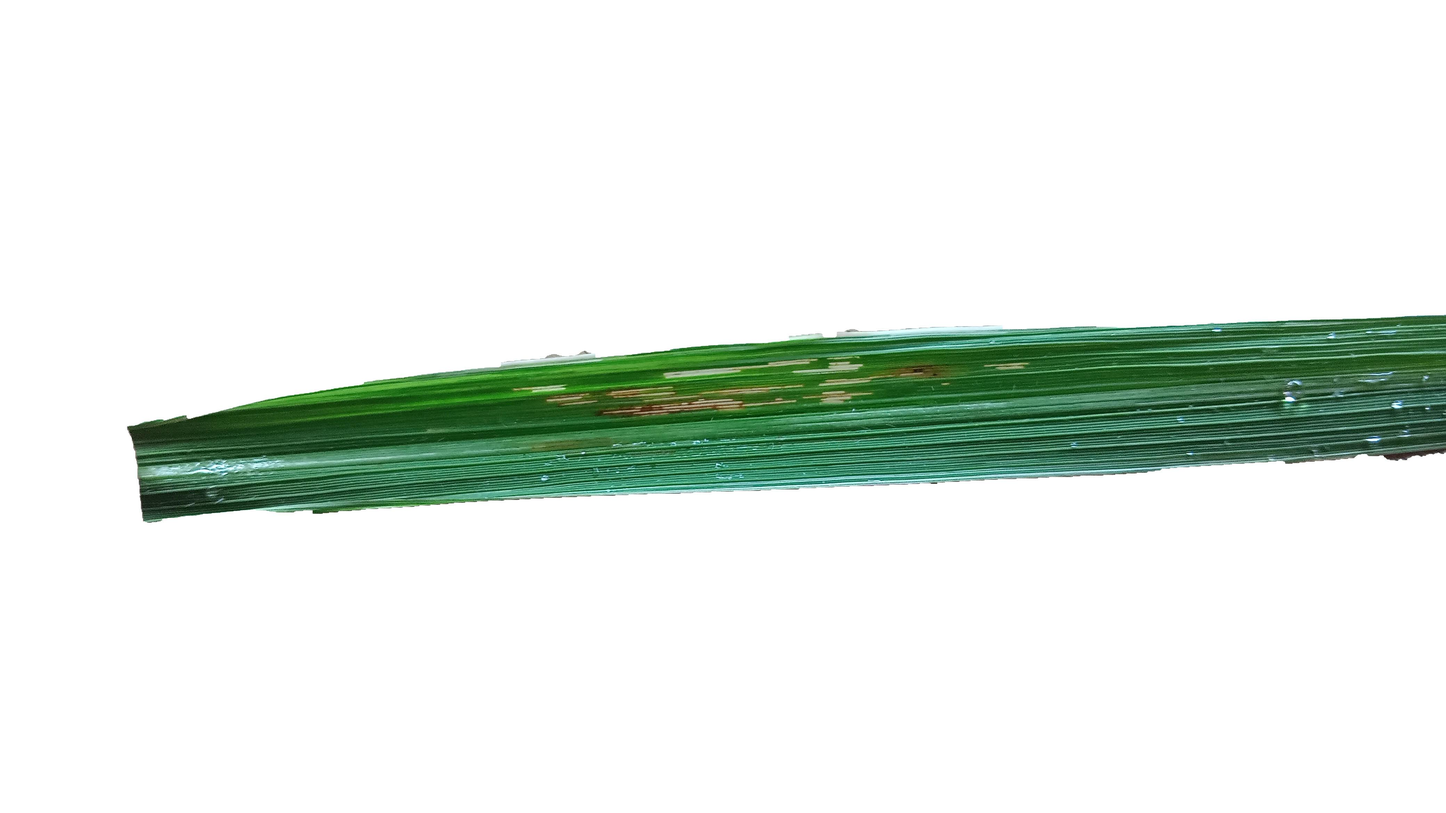Blight: (527, 361, 952, 415)
